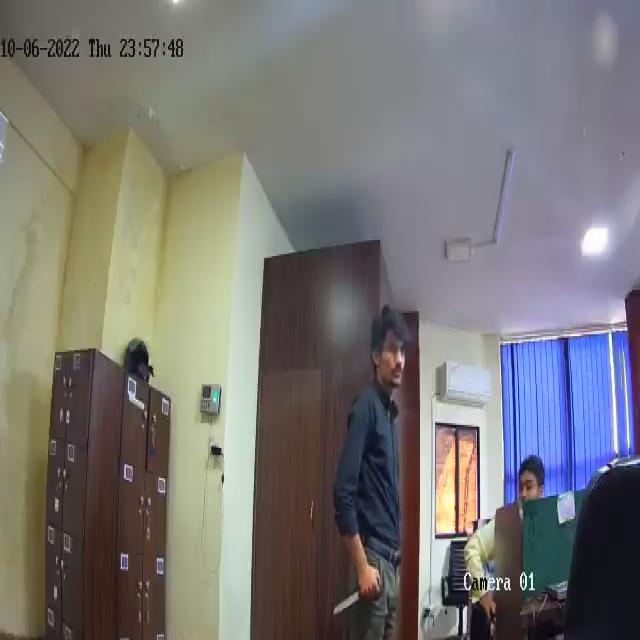Knife: (330, 571, 378, 622)
